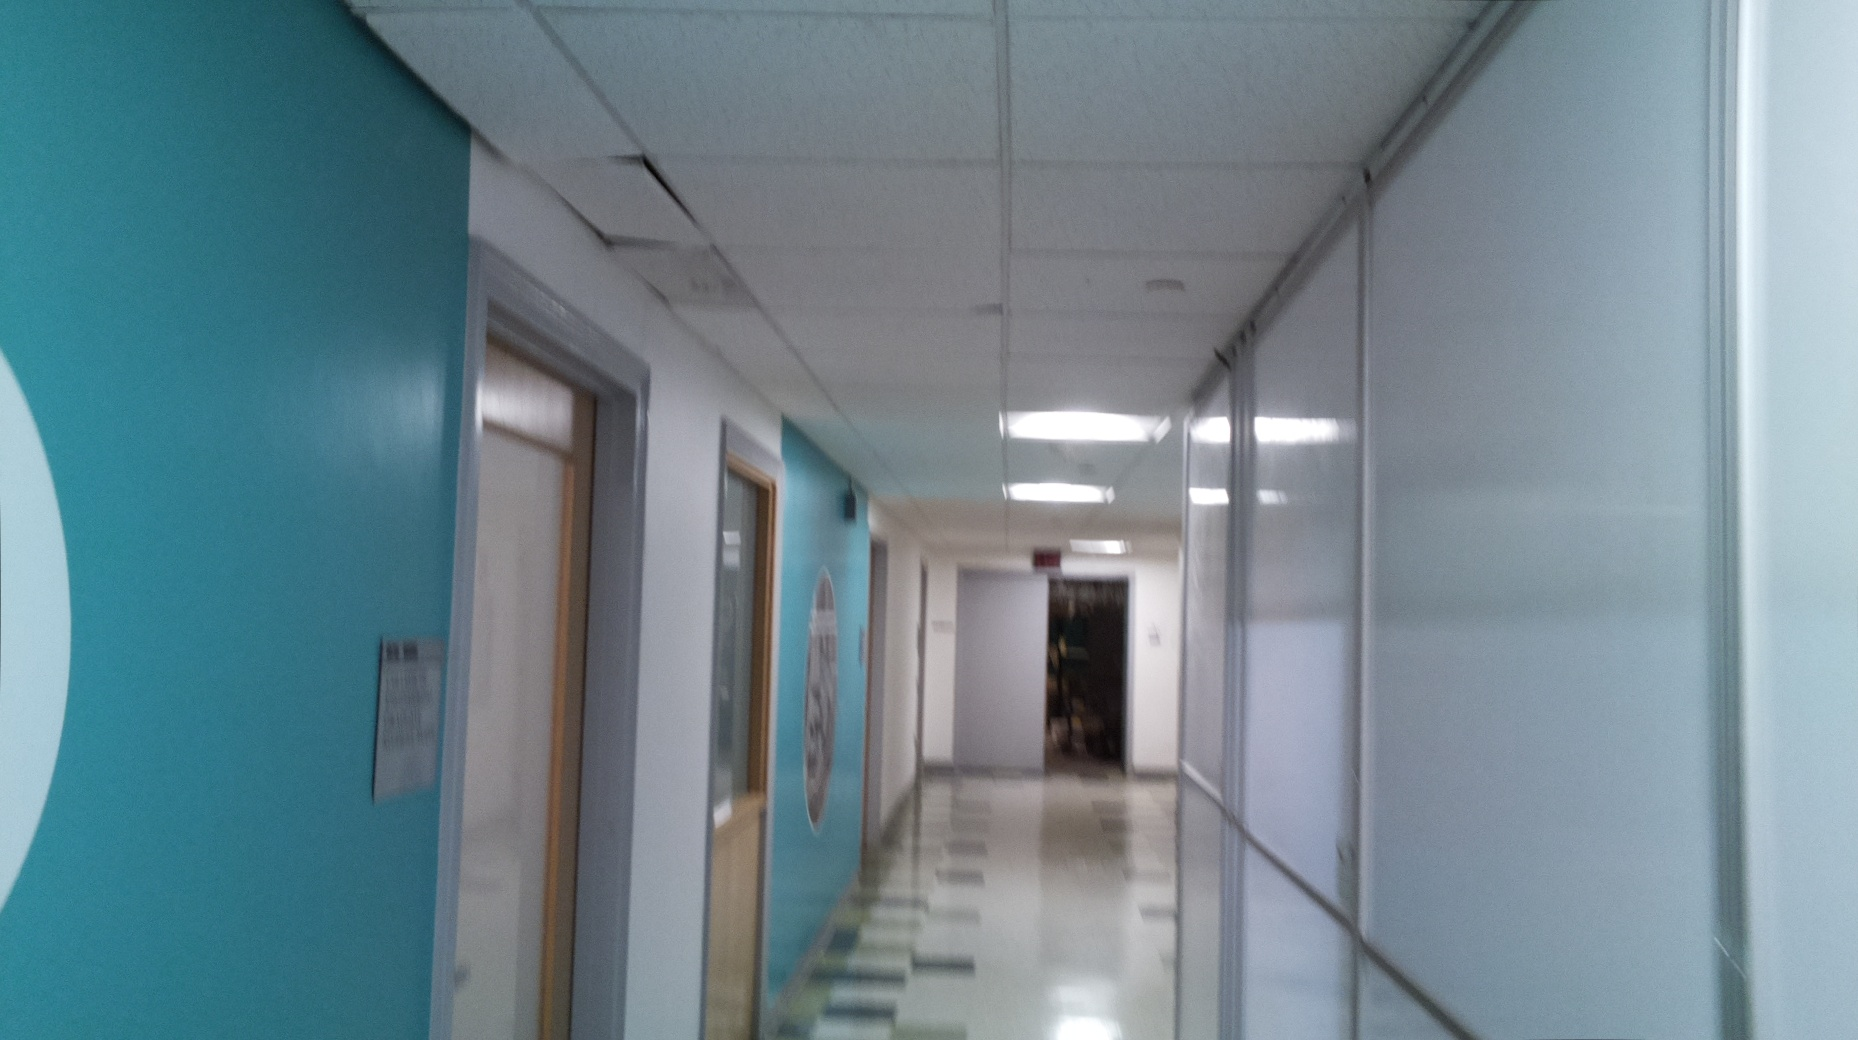exit sign: (1031, 547, 1063, 570)
